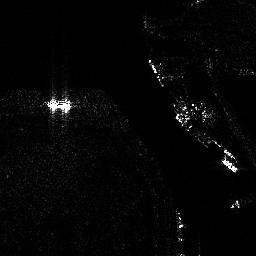ship: (221, 157, 238, 173)
